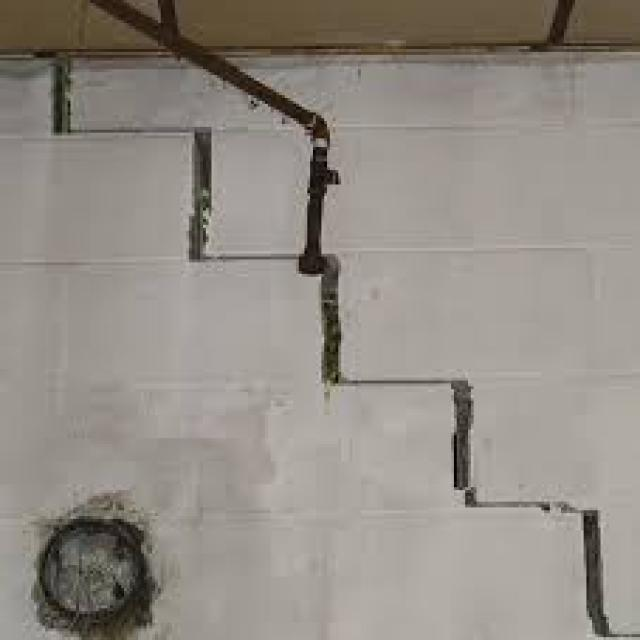Crack: (45, 49, 637, 637)
